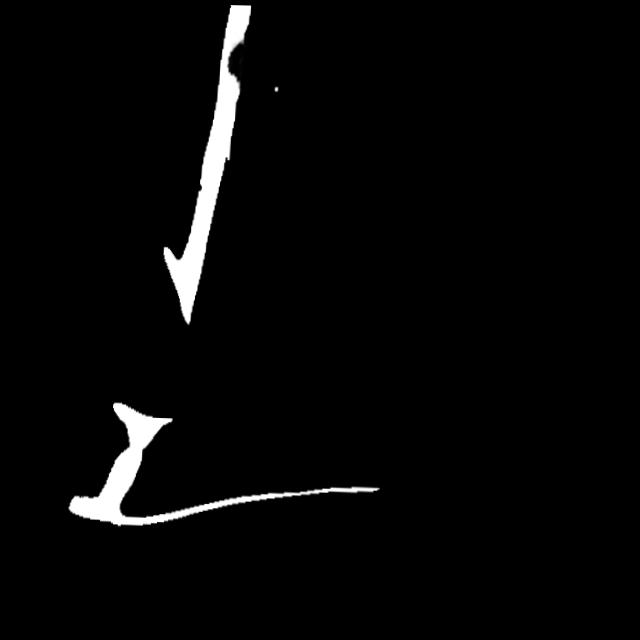sl: (213, 29, 254, 100)
